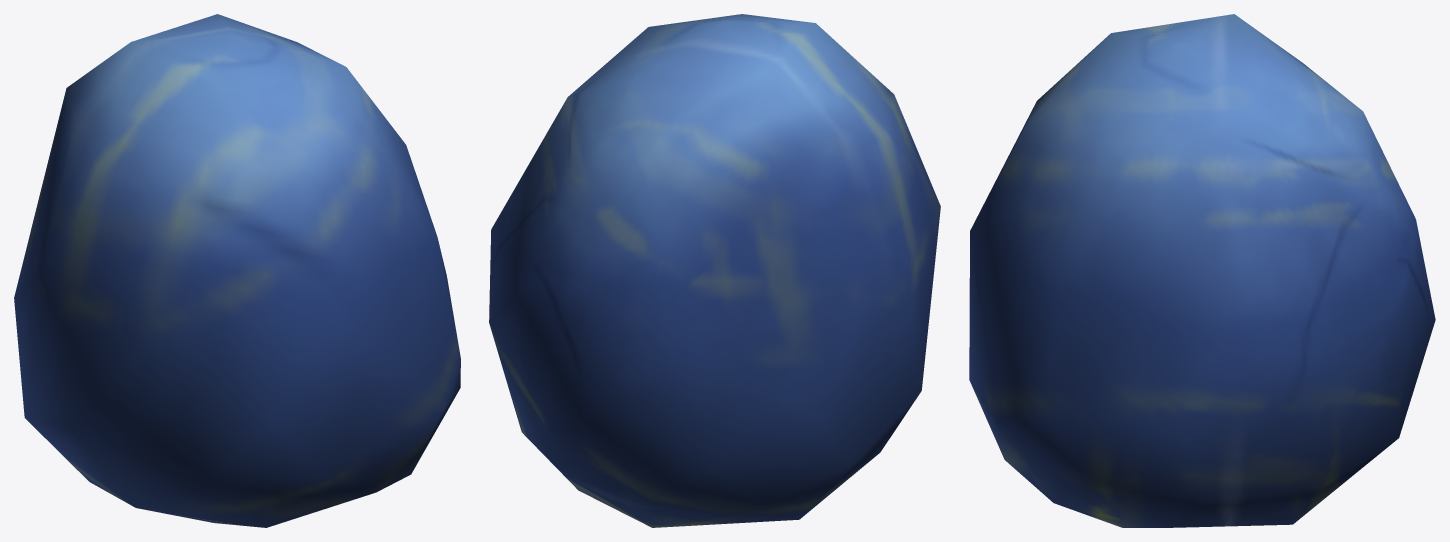
File: SM_Gem_LapisLazuli_Piece_002.fbx
3 renders of one model, left to right at view 1: azimuth 30°, elevation 25°; view 2: azimuth 150°, elevation 25°; view 3: azimuth 270°, elevation 25°, orthographic. The views are drawn at different scales.
Parts seen in each view (by area): view 1: SM_Gem_LapisLazuli_Piece_002; view 2: SM_Gem_LapisLazuli_Piece_002; view 3: SM_Gem_LapisLazuli_Piece_002.
Part boxes in pixels (bbox=[...]): SM_Gem_LapisLazuli_Piece_002: bbox=[14, 14, 460, 527]; SM_Gem_LapisLazuli_Piece_002: bbox=[489, 14, 940, 527]; SM_Gem_LapisLazuli_Piece_002: bbox=[969, 14, 1435, 527].
Size of the model in its own units: 15.96 by 18.69 by 16.91.
